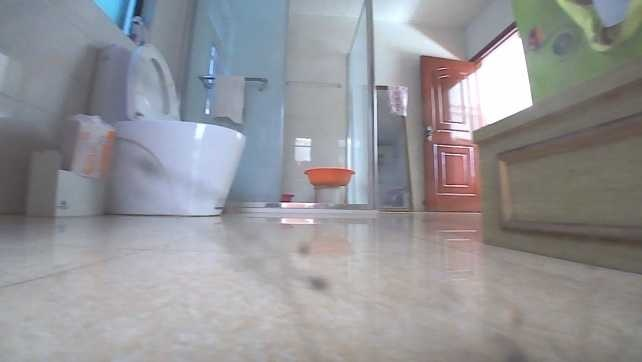door_anno: (418, 54, 491, 211)
toilet: (89, 39, 247, 217)
